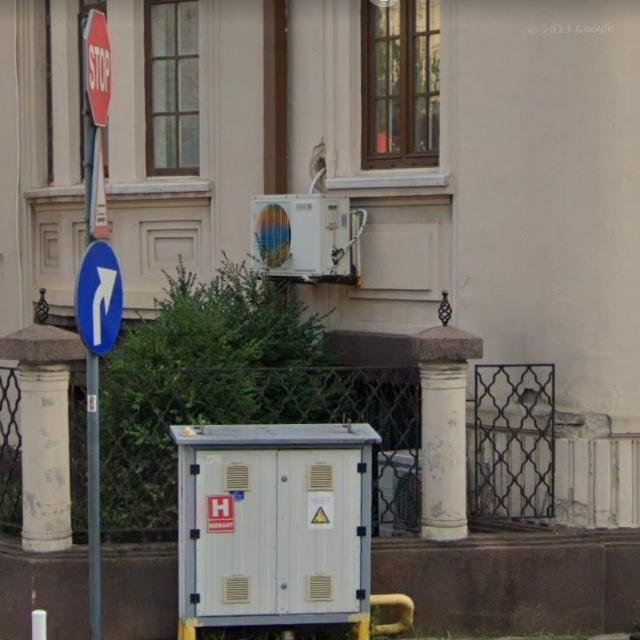prio_stop: (82, 7, 114, 129)
